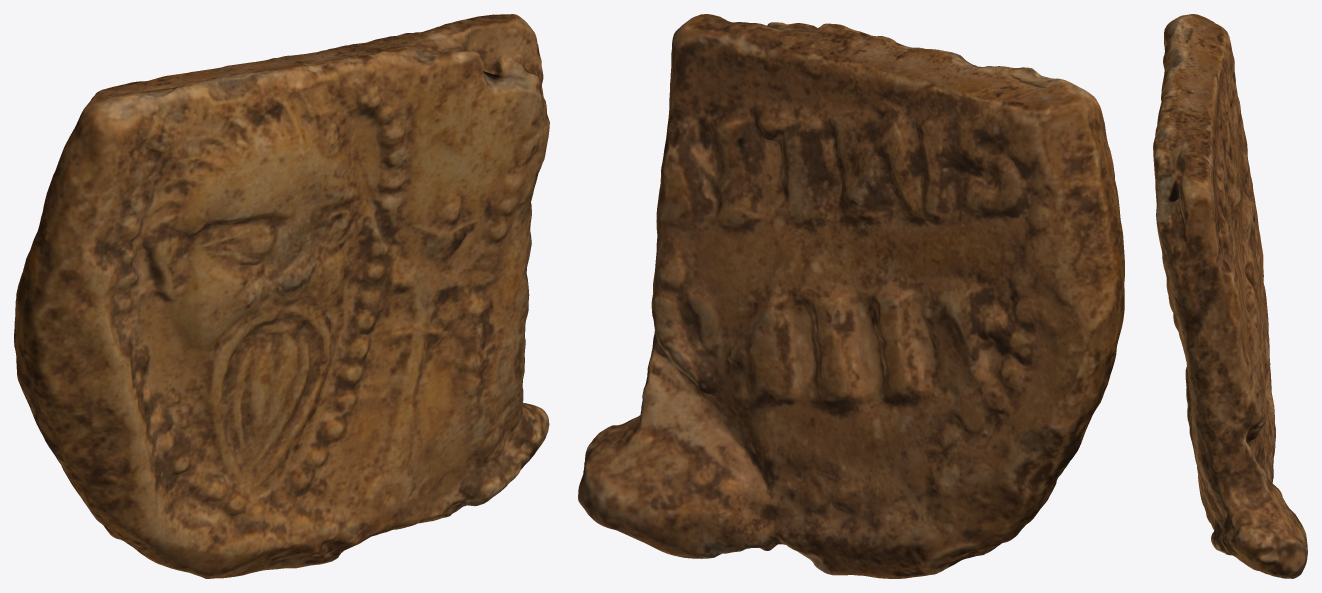
The model's file is ISO-10.glb.
3 renders of one model, left to right at view 1: azimuth 30°, elevation 25°; view 2: azimuth 150°, elevation 25°; view 3: azimuth 270°, elevation 25°, orthographic. The views are drawn at different scales.
Size of the model in its own units: 0.0278 by 0.0267 by 0.00895.
1 material, 1 textured.
